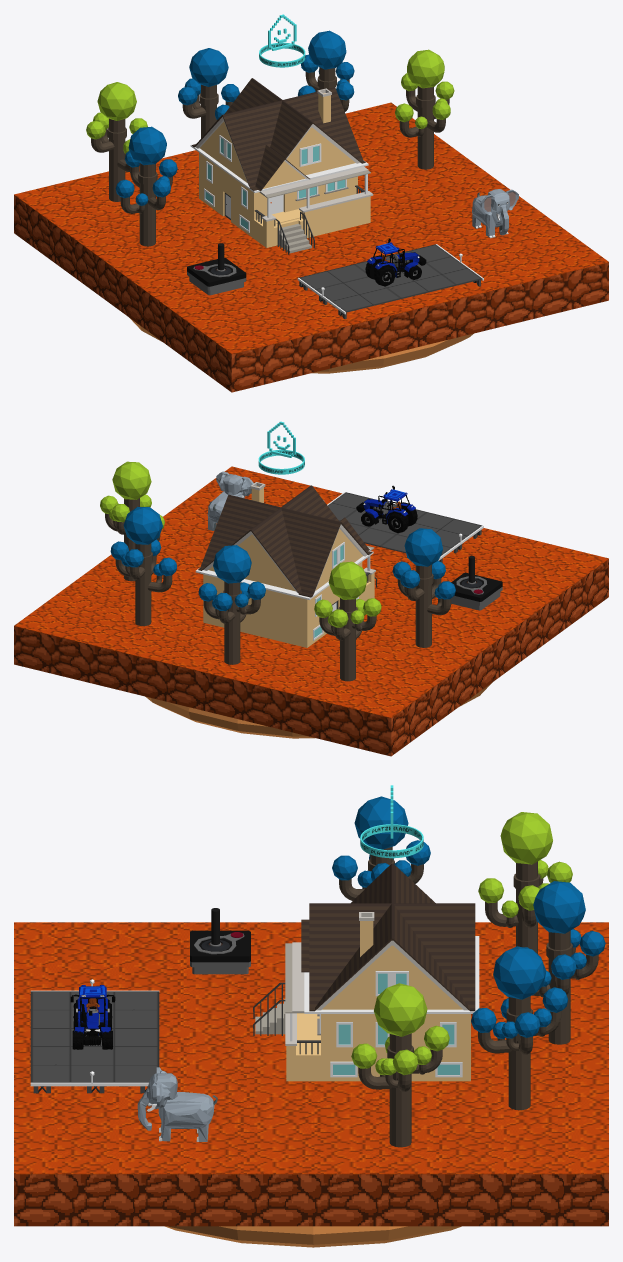
3 views of the same model, one above another, from view 1: azimuth 30°, elevation 25°; view 2: azimuth 150°, elevation 25°; view 3: azimuth 270°, elevation 25° (orthographic). The views are drawn at different scales.
Visible parts, largest first — view 1: Cube.001, Cube.235, OBJRANDOM_JOYSTICK, VEHICLES_TRACTOR, ANIMAL_ELEFANTE, UNDERGROUND_PIZZA, TYPE_PREMIUM; view 2: Cube.001, Cube.235, UNDERGROUND_PIZZA, VEHICLES_TRACTOR, OBJRANDOM_JOYSTICK, ANIMAL_ELEFANTE, TYPE_PREMIUM; view 3: Cube.001, Cube.235, UNDERGROUND_PIZZA, ANIMAL_ELEFANTE, OBJRANDOM_JOYSTICK, VEHICLES_TRACTOR, TYPE_PREMIUM.
Boxes of the visible parts, x1,y1,x2,y2 form: Cube.001: (14, 30, 608, 392); Cube.235: (190, 78, 373, 254); OBJRANDOM_JOYSTICK: (187, 243, 246, 295); VEHICLES_TRACTOR: (365, 238, 426, 286); ANIMAL_ELEFANTE: (472, 189, 518, 238); UNDERGROUND_PIZZA: (130, 318, 473, 373); TYPE_PREMIUM: (259, 14, 305, 67); Cube.001: (14, 461, 608, 756); Cube.235: (195, 482, 377, 647); UNDERGROUND_PIZZA: (145, 682, 492, 738); VEHICLES_TRACTOR: (356, 485, 417, 533); OBJRANDOM_JOYSTICK: (451, 555, 502, 610); ANIMAL_ELEFANTE: (207, 471, 253, 530); TYPE_PREMIUM: (258, 421, 304, 474); Cube.001: (14, 796, 608, 1226); Cube.235: (253, 863, 479, 1081); UNDERGROUND_PIZZA: (165, 1226, 461, 1247); ANIMAL_ELEFANTE: (137, 1067, 217, 1141); OBJRANDOM_JOYSTICK: (190, 908, 250, 974); VEHICLES_TRACTOR: (70, 985, 115, 1049); TYPE_PREMIUM: (360, 785, 423, 858).
Size of the model in its own units: 4000 by 2622 by 4000.
Materials: 44 (5 with a texture image).
